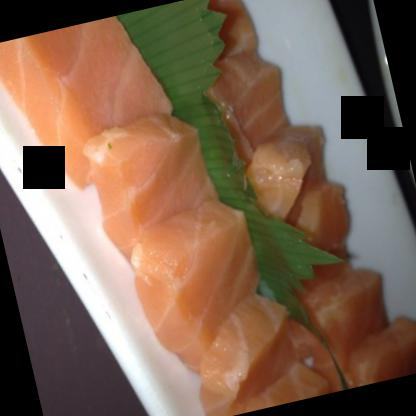salmon: (0, 7, 187, 202), (121, 194, 281, 376), (75, 105, 225, 264), (183, 287, 326, 415), (202, 52, 309, 222), (302, 252, 415, 394)
